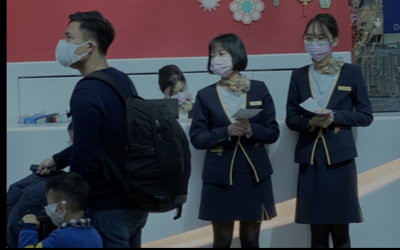with_mask: (54, 30, 87, 68), (304, 31, 331, 61), (209, 48, 234, 79), (164, 83, 188, 105), (44, 197, 62, 225)
